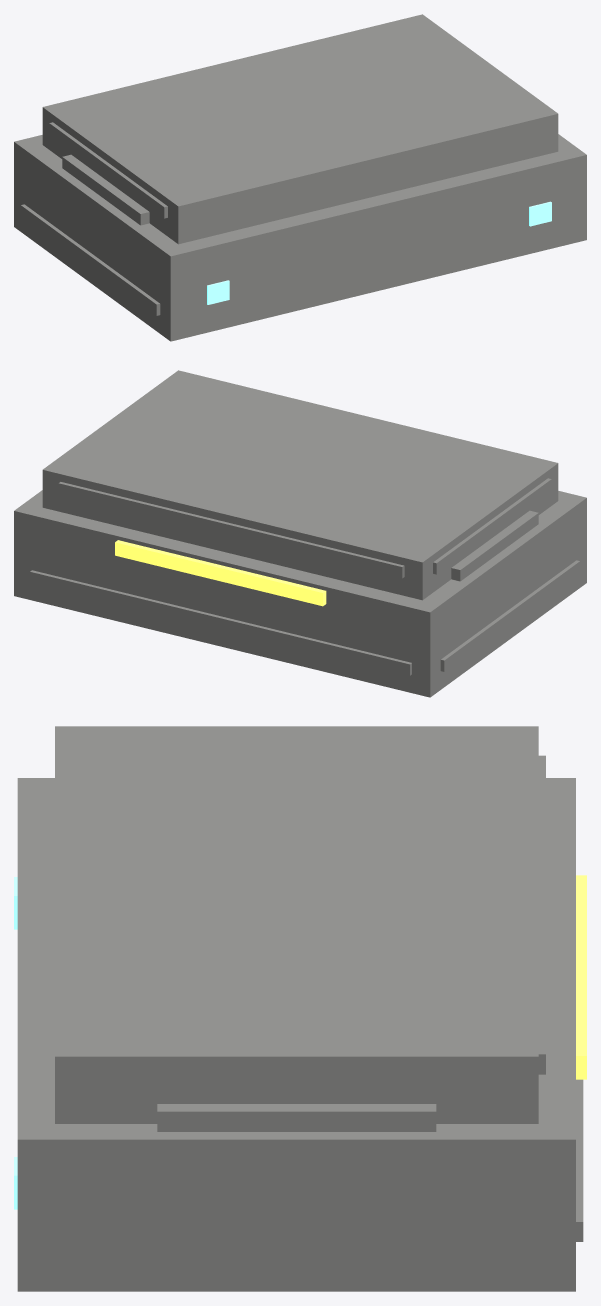
The model's file is data_center_lod0-CZXe8cJQ.glb.
3 views of the same model, one above another, from view 1: azimuth 30°, elevation 25°; view 2: azimuth 150°, elevation 25°; view 3: azimuth 270°, elevation 25° (orthographic). The views are drawn at different scales.
Visible parts, largest first — view 1: body, window; view 2: body, sign; view 3: body, sign.
Part boxes in pixels (x1,y1,x2,y2): body: [14, 14, 586, 341]; window: [207, 201, 551, 304]; body: [14, 370, 586, 697]; sign: [115, 540, 326, 606]; body: [17, 726, 583, 1291]; sign: [576, 875, 586, 1079].
Bounding box in the file's own units: 0.928 × 0.26 × 0.616.
